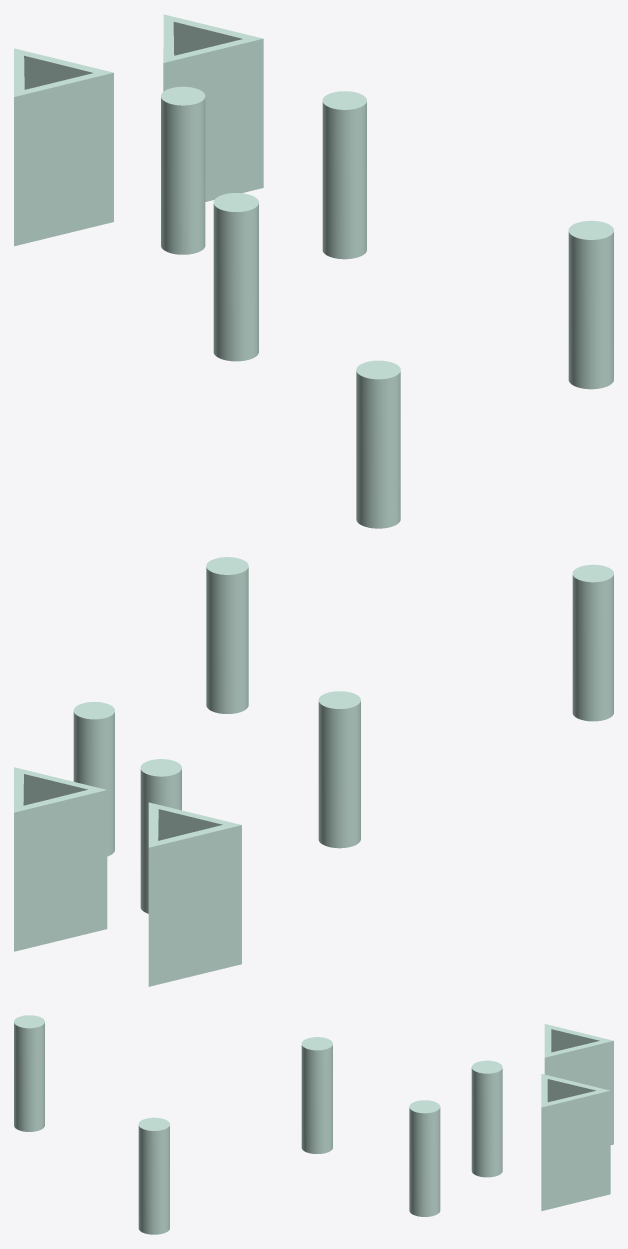
The picture shows the model from 3 angles, top to bottom: view 1: azimuth 30°, elevation 25°; view 2: azimuth 150°, elevation 25°; view 3: azimuth 270°, elevation 25°; orthographic projection. The views are drawn at different scales.
Visible parts, largest first — view 1: Renderer Node; view 2: Renderer Node; view 3: Renderer Node.
Boxes of the visible parts, left/top/right/bottom form: Renderer Node: left=14, top=14, right=613, bottom=528; Renderer Node: left=14, top=557, right=613, bottom=986; Renderer Node: left=14, top=1015, right=613, bottom=1234.
Size of the model in its own units: 0.6172 by 0.2578 by 1.35.
